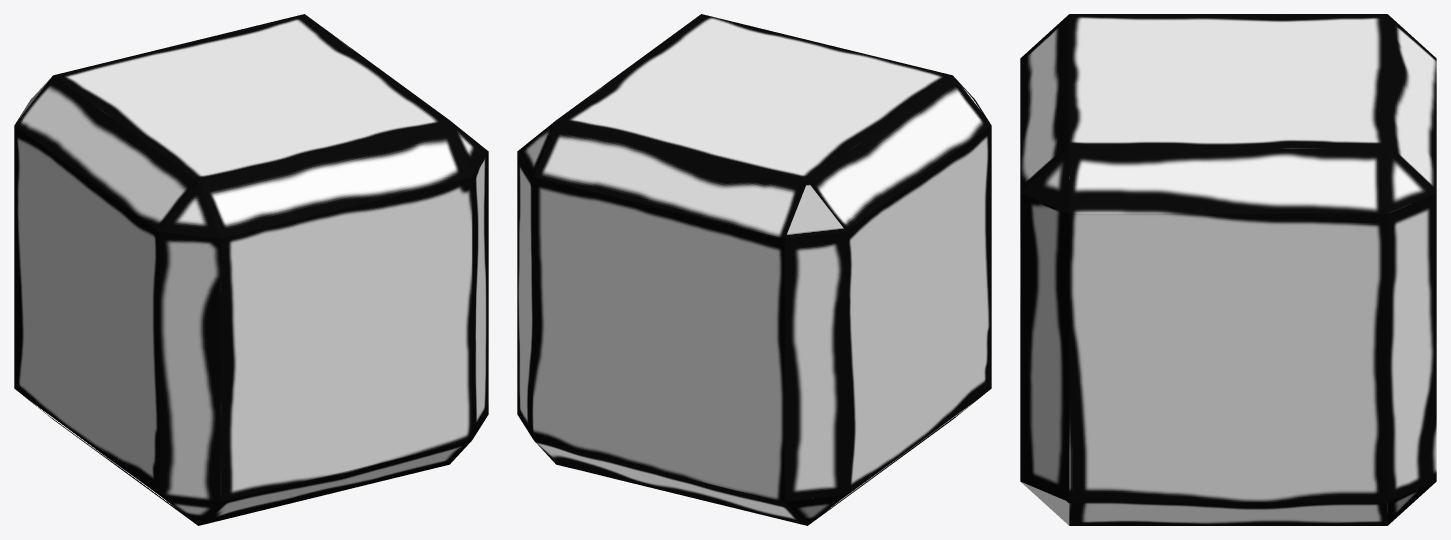
File: TestBox.fbx
The picture shows the model from 3 angles, left to right: view 1: azimuth 30°, elevation 25°; view 2: azimuth 150°, elevation 25°; view 3: azimuth 270°, elevation 25°; orthographic projection. The views are drawn at different scales.
Visible parts, largest first — view 1: Cube; view 2: Cube; view 3: Cube.
Boxes of the visible parts, x1=… form: Cube: x1=14, y1=14, x2=488, y2=525; Cube: x1=517, y1=14, x2=991, y2=525; Cube: x1=1020, y1=14, x2=1436, y2=525.
Bounding box in the file's own units: 200 × 200 × 200.
Materials: 1 (1 with a texture image).
